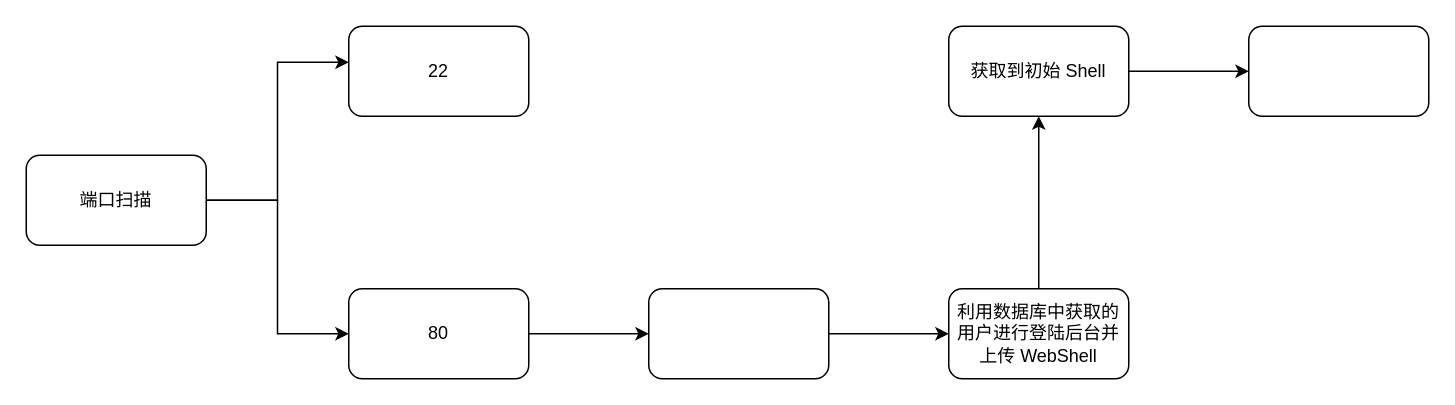
The diagram is 1455 pixels wide and 405 high, and some of its shapes have lost their labels. Each missing label, with the centre of its shape:
"发现一个定时脚本 通过修改其中内容完成提权" goes at (x=1338, y=70).
"进行目录扫描发现一个 CMS 同时发现一个数据库的备份文件" goes at (x=738, y=333).
